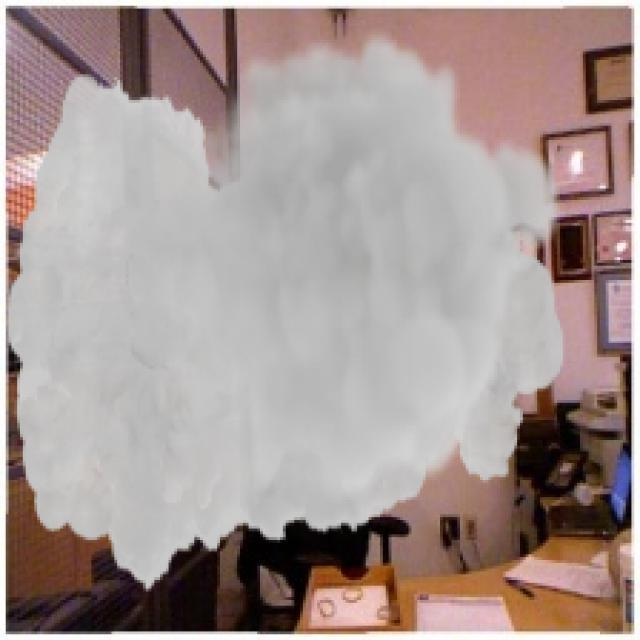Smoke: (6, 28, 566, 594)
